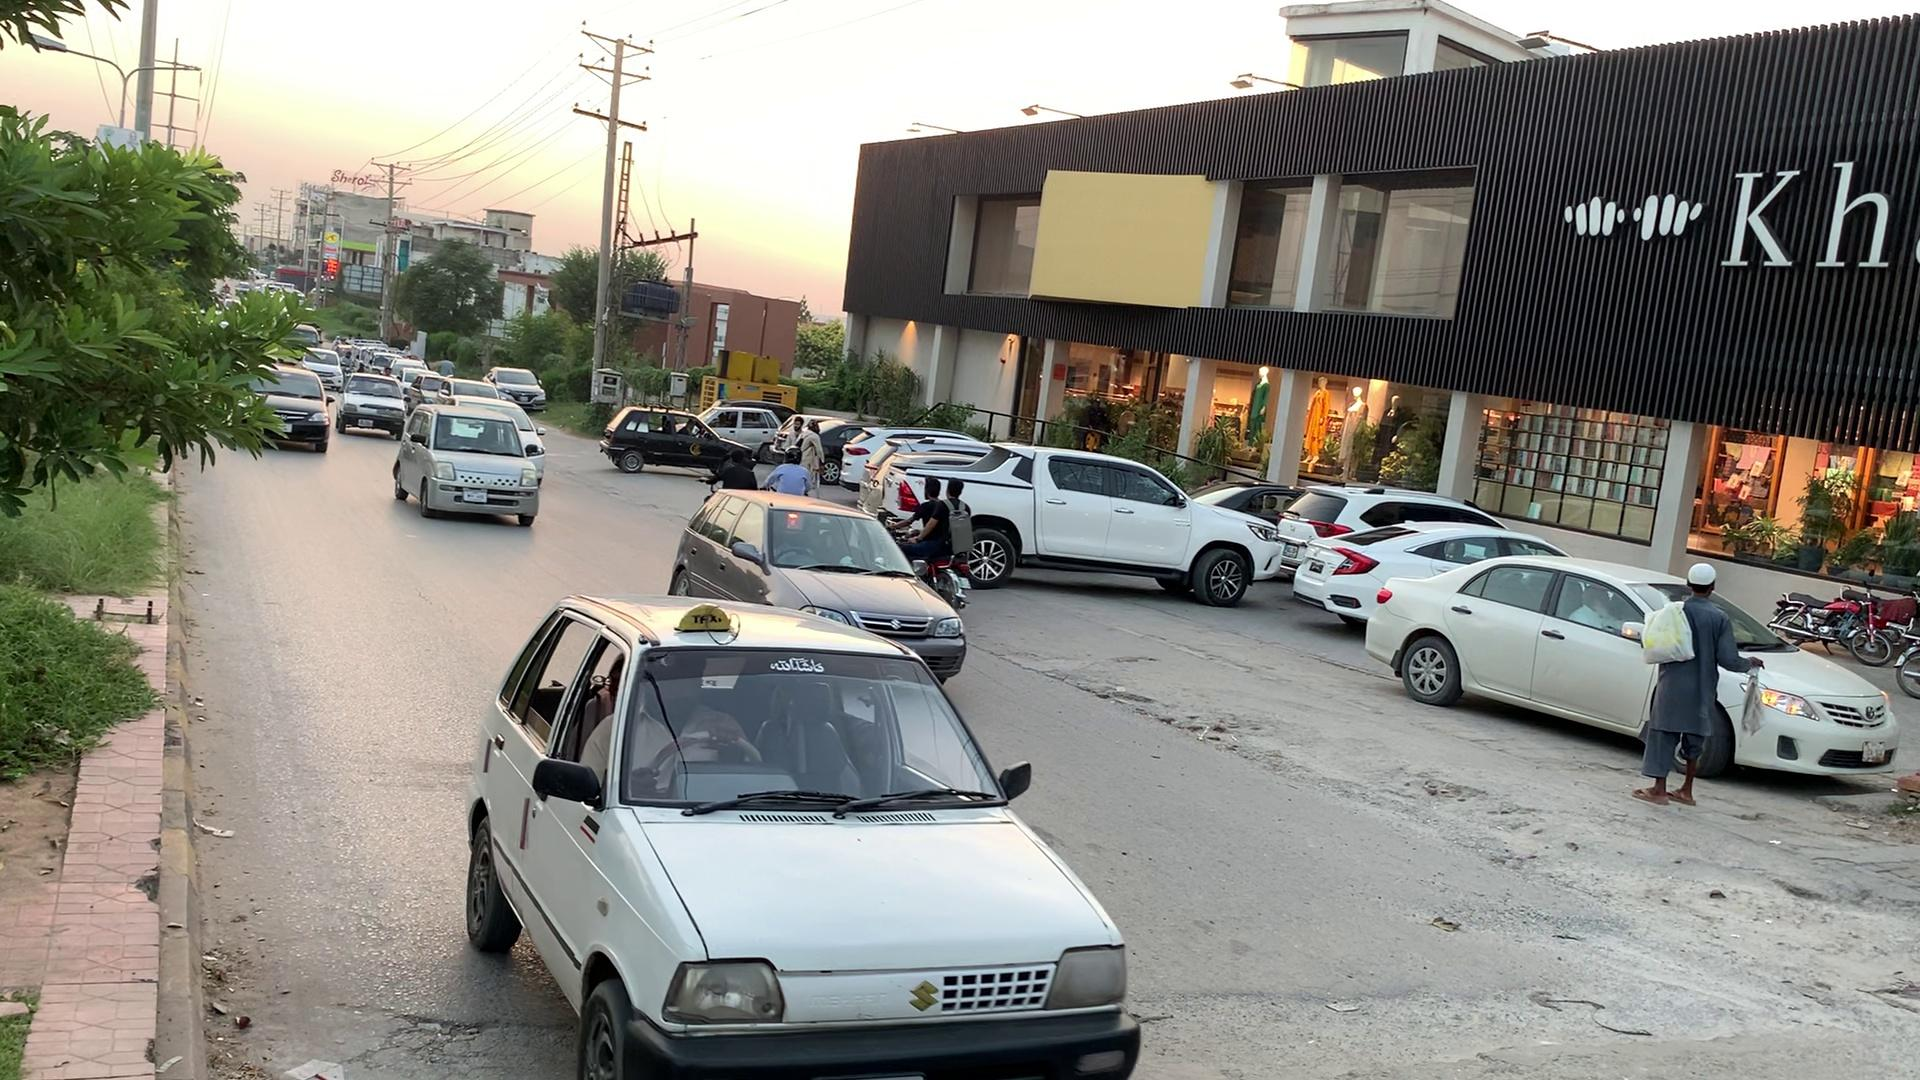windshield: (617, 630, 1021, 840)
